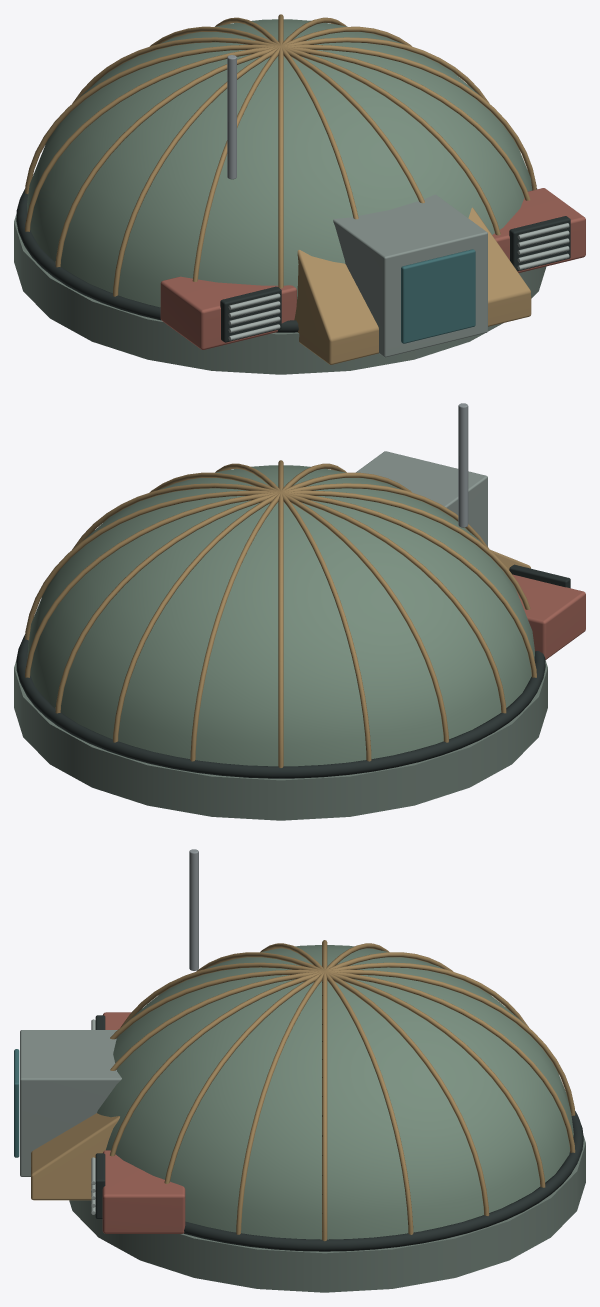
3 renders of one model, top to bottom at view 1: azimuth 30°, elevation 25°; view 2: azimuth 150°, elevation 25°; view 3: azimuth 270°, elevation 25°, orthographic. The views are drawn at different scales.
Parts seen in each view (by area): view 1: Pleasure glazed canopy, Foundation drum, Leisure entry pressure vestibule, Pleasure dome front entrance, Leisure entry pressure door, Pleasure dome entrance wing, Leisure canopy perimeter gasket, Pleasure dome entrance wing.001, Leisure canopy glazing mullion.009, Leisure canopy glazing mullion.008, Leisure canopy glazing mullion.007, Leisure canopy glazing mullion.010 (+14 smaller); view 2: Pleasure glazed canopy, Foundation drum, Leisure canopy perimeter gasket, Leisure entry pressure vestibule, Pleasure dome entrance wing, Leisure canopy glazing mullion.003, Leisure canopy glazing mullion.009, Leisure canopy glazing mullion.002, Leisure canopy glazing mullion.010, Leisure canopy glazing mullion.008, Leisure canopy glazing mullion.004, Leisure canopy glazing mullion.001 (+10 smaller); view 3: Pleasure glazed canopy, Foundation drum, Leisure entry pressure vestibule, Leisure canopy perimeter gasket, Pleasure dome entrance wing.001, Pleasure dome front entrance, Leisure canopy glazing mullion.003, Leisure canopy glazing mullion.004, Leisure canopy glazing mullion.002, Leisure canopy glazing mullion.005, Leisure canopy glazing mullion.015, Leisure canopy glazing mullion (+12 smaller).
Boxes of the visible parts, x1,y1,x2,y2 form: Pleasure glazed canopy: [27, 19, 532, 307]; Foundation drum: [14, 214, 546, 374]; Leisure entry pressure vestibule: [333, 194, 487, 357]; Pleasure dome front entrance: [294, 207, 531, 364]; Leisure entry pressure door: [401, 249, 475, 343]; Pleasure dome entrance wing: [160, 276, 296, 349]; Leisure canopy perimeter gasket: [16, 188, 536, 332]; Pleasure dome entrance wing.001: [492, 188, 585, 272]; Leisure canopy glazing mullion.009: [55, 46, 279, 267]; Leisure canopy glazing mullion.008: [25, 46, 279, 231]; Leisure canopy glazing mullion.007: [25, 44, 280, 193]; Leisure canopy glazing mullion.010: [113, 46, 280, 296]; Pleasure glazed canopy: [27, 465, 534, 766]; Foundation drum: [14, 660, 547, 820]; Leisure canopy perimeter gasket: [16, 634, 545, 778]; Leisure entry pressure vestibule: [356, 451, 487, 546]; Pleasure dome entrance wing: [512, 574, 585, 659]; Leisure canopy glazing mullion.003: [55, 492, 279, 713]; Leisure canopy glazing mullion.009: [282, 492, 506, 713]; Leisure canopy glazing mullion.002: [25, 492, 278, 677]; Leisure canopy glazing mullion.010: [283, 492, 536, 677]; Leisure canopy glazing mullion.008: [281, 492, 448, 742]; Leisure canopy glazing mullion.004: [113, 492, 280, 742]; Leisure canopy glazing mullion.001: [25, 490, 279, 640]; Pleasure glazed canopy: [97, 945, 573, 1239]; Foundation drum: [69, 1135, 585, 1292]; Leisure entry pressure vestibule: [20, 1030, 121, 1176]; Leisure canopy perimeter gasket: [184, 1111, 583, 1251]; Pleasure dome entrance wing.001: [102, 1150, 185, 1233]; Pleasure dome front entrance: [31, 1113, 119, 1200]; Leisure canopy glazing mullion.003: [325, 971, 545, 1187]; Leisure canopy glazing mullion.004: [326, 971, 575, 1152]; Leisure canopy glazing mullion.002: [325, 971, 489, 1215]; Leisure canopy glazing mullion.005: [325, 969, 575, 1115]; Leisure canopy glazing mullion.015: [110, 971, 323, 1156]; Leisure canopy glazing mullion: [322, 971, 327, 1241].
Size of the model in its own units: 2.4 by 1.4 by 2.63.
